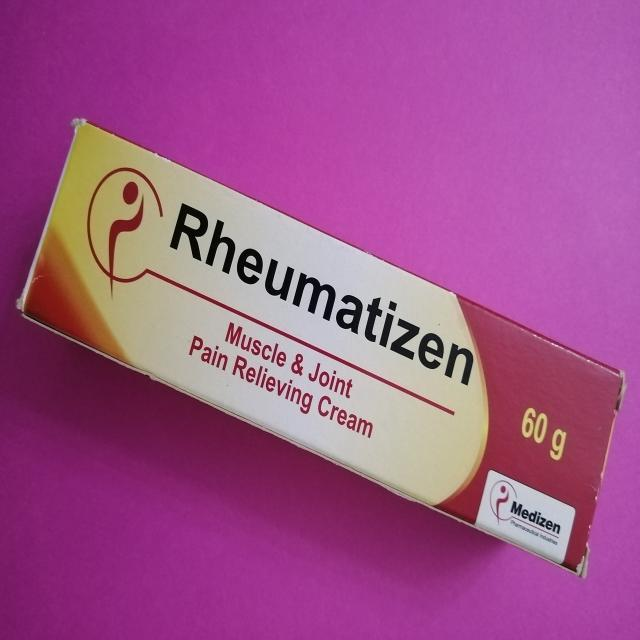Medicine Name: (166, 192, 482, 395)
